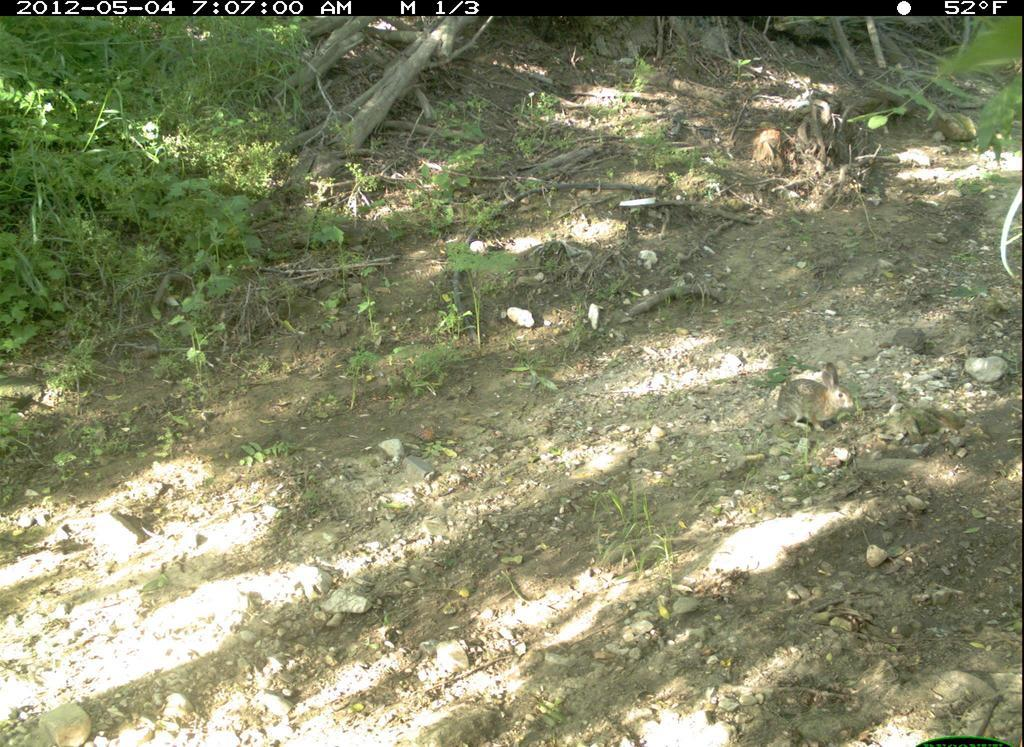rabbit: (762, 350, 875, 443)
